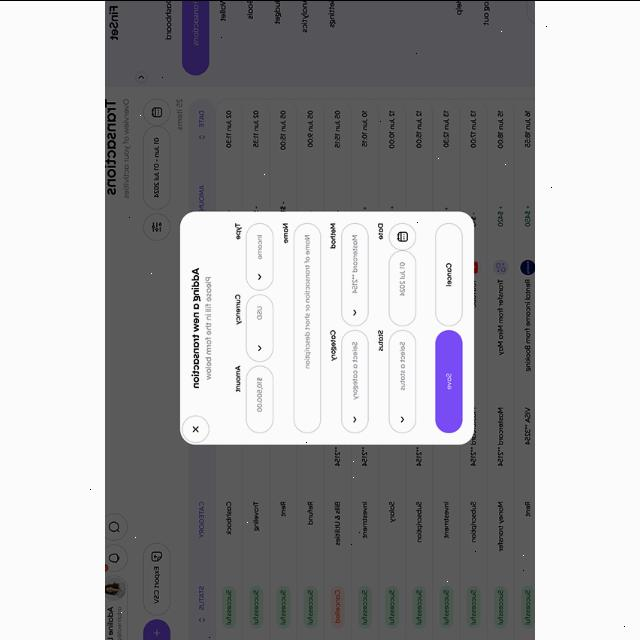QLabel: (192, 266, 200, 388), (205, 275, 213, 379), (330, 328, 338, 360), (234, 293, 242, 323), (234, 364, 242, 391), (446, 261, 454, 287), (282, 222, 290, 242), (330, 222, 336, 248), (446, 371, 454, 389), (378, 328, 384, 350), (234, 222, 242, 238), (378, 222, 384, 240)
VBtn: (436, 222, 464, 326), (435, 330, 463, 432)
VCombobox: (340, 330, 370, 432), (388, 330, 418, 432), (341, 222, 369, 326), (246, 222, 274, 290), (246, 293, 274, 361)
VDialog: (180, 210, 476, 446)
VIcon: (192, 424, 200, 432)
VInlineDatepicker: (388, 223, 418, 325)
VTextField: (294, 222, 322, 432), (246, 365, 274, 433)
